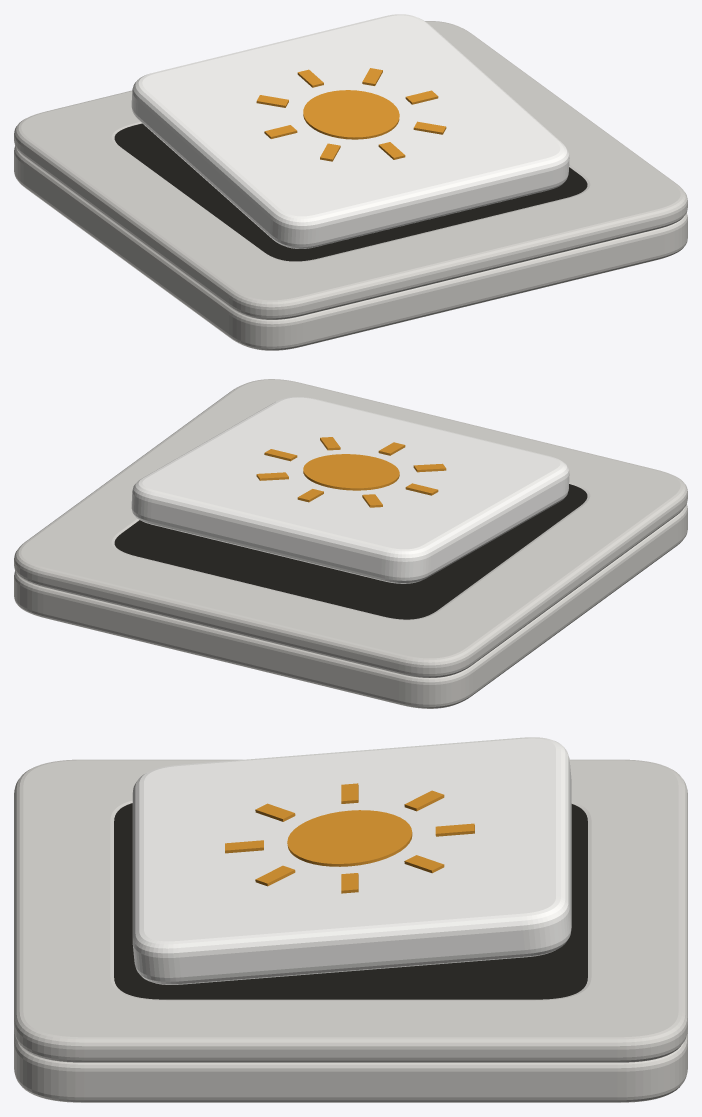
The model's file is interruptor-de-pared-dia.glb.
3 views of the same model, one above another, from view 1: azimuth 30°, elevation 25°; view 2: azimuth 150°, elevation 25°; view 3: azimuth 270°, elevation 25° (orthographic). The views are drawn at different scales.
Parts seen in each view (by area): view 1: tecla, marco, placa-base, mecanismo, sol-disco; view 2: marco, tecla, placa-base, mecanismo, sol-disco; view 3: marco, tecla, placa-base, mecanismo, sol-disco.
Part boxes in pixels (box(x1,y1,x2,y2)): tecla: box(131, 14, 569, 248); marco: box(14, 21, 687, 319); placa-base: box(14, 146, 687, 350); mecanismo: box(114, 123, 587, 261); sol-disco: box(303, 90, 399, 139); marco: box(14, 379, 687, 677); tecla: box(131, 397, 569, 583); placa-base: box(14, 504, 687, 708); mecanismo: box(114, 484, 587, 619); sol-disco: box(303, 454, 399, 490); marco: box(14, 759, 687, 1062); tecla: box(132, 737, 571, 984); placa-base: box(14, 1030, 687, 1102); mecanismo: box(114, 803, 587, 999); sol-disco: box(287, 810, 412, 866).
Size of the model in its own units: 0.086 by 0.0197 by 0.086.
